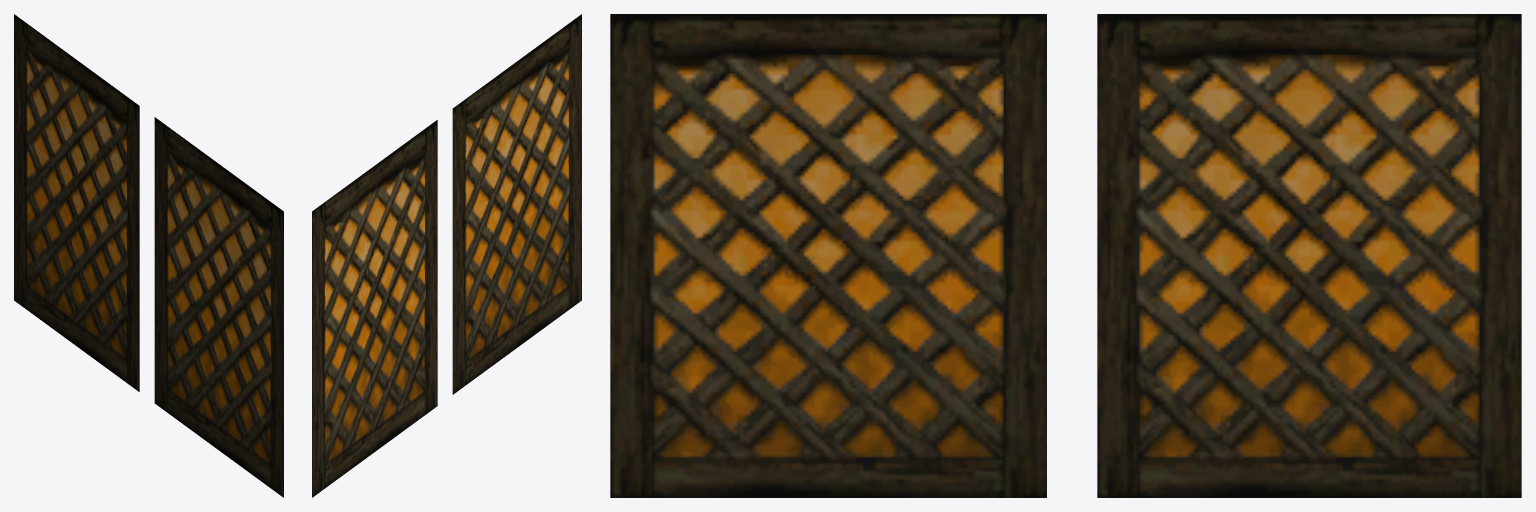
File: LAKETOWN_EXTERIOR_PS_LT_WINDOWS2313.fbx
3 renders of one model, left to right at view 1: azimuth 30°, elevation 25°; view 2: azimuth 150°, elevation 25°; view 3: azimuth 270°, elevation 25°, orthographic. The views are drawn at different scales.
Parts seen in each view (by area): view 1: LAKETOWN_EXTERIOR_PS_LT_WINDOWS2313; view 2: LAKETOWN_EXTERIOR_PS_LT_WINDOWS2313; view 3: LAKETOWN_EXTERIOR_PS_LT_WINDOWS2313.
Boxes of the visible parts, x1,y1,x2,y2 form: LAKETOWN_EXTERIOR_PS_LT_WINDOWS2313: (14, 14, 283, 497); LAKETOWN_EXTERIOR_PS_LT_WINDOWS2313: (312, 14, 581, 497); LAKETOWN_EXTERIOR_PS_LT_WINDOWS2313: (610, 14, 1521, 497).
Size of the model in its own units: 0 by 13100 by 22352.
Materials: 1 (1 with a texture image).
